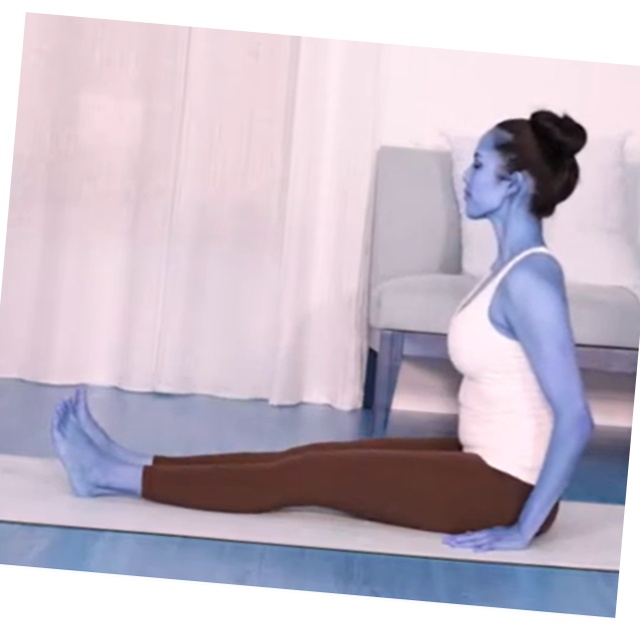Staff_Pose: (52, 111, 595, 558)
